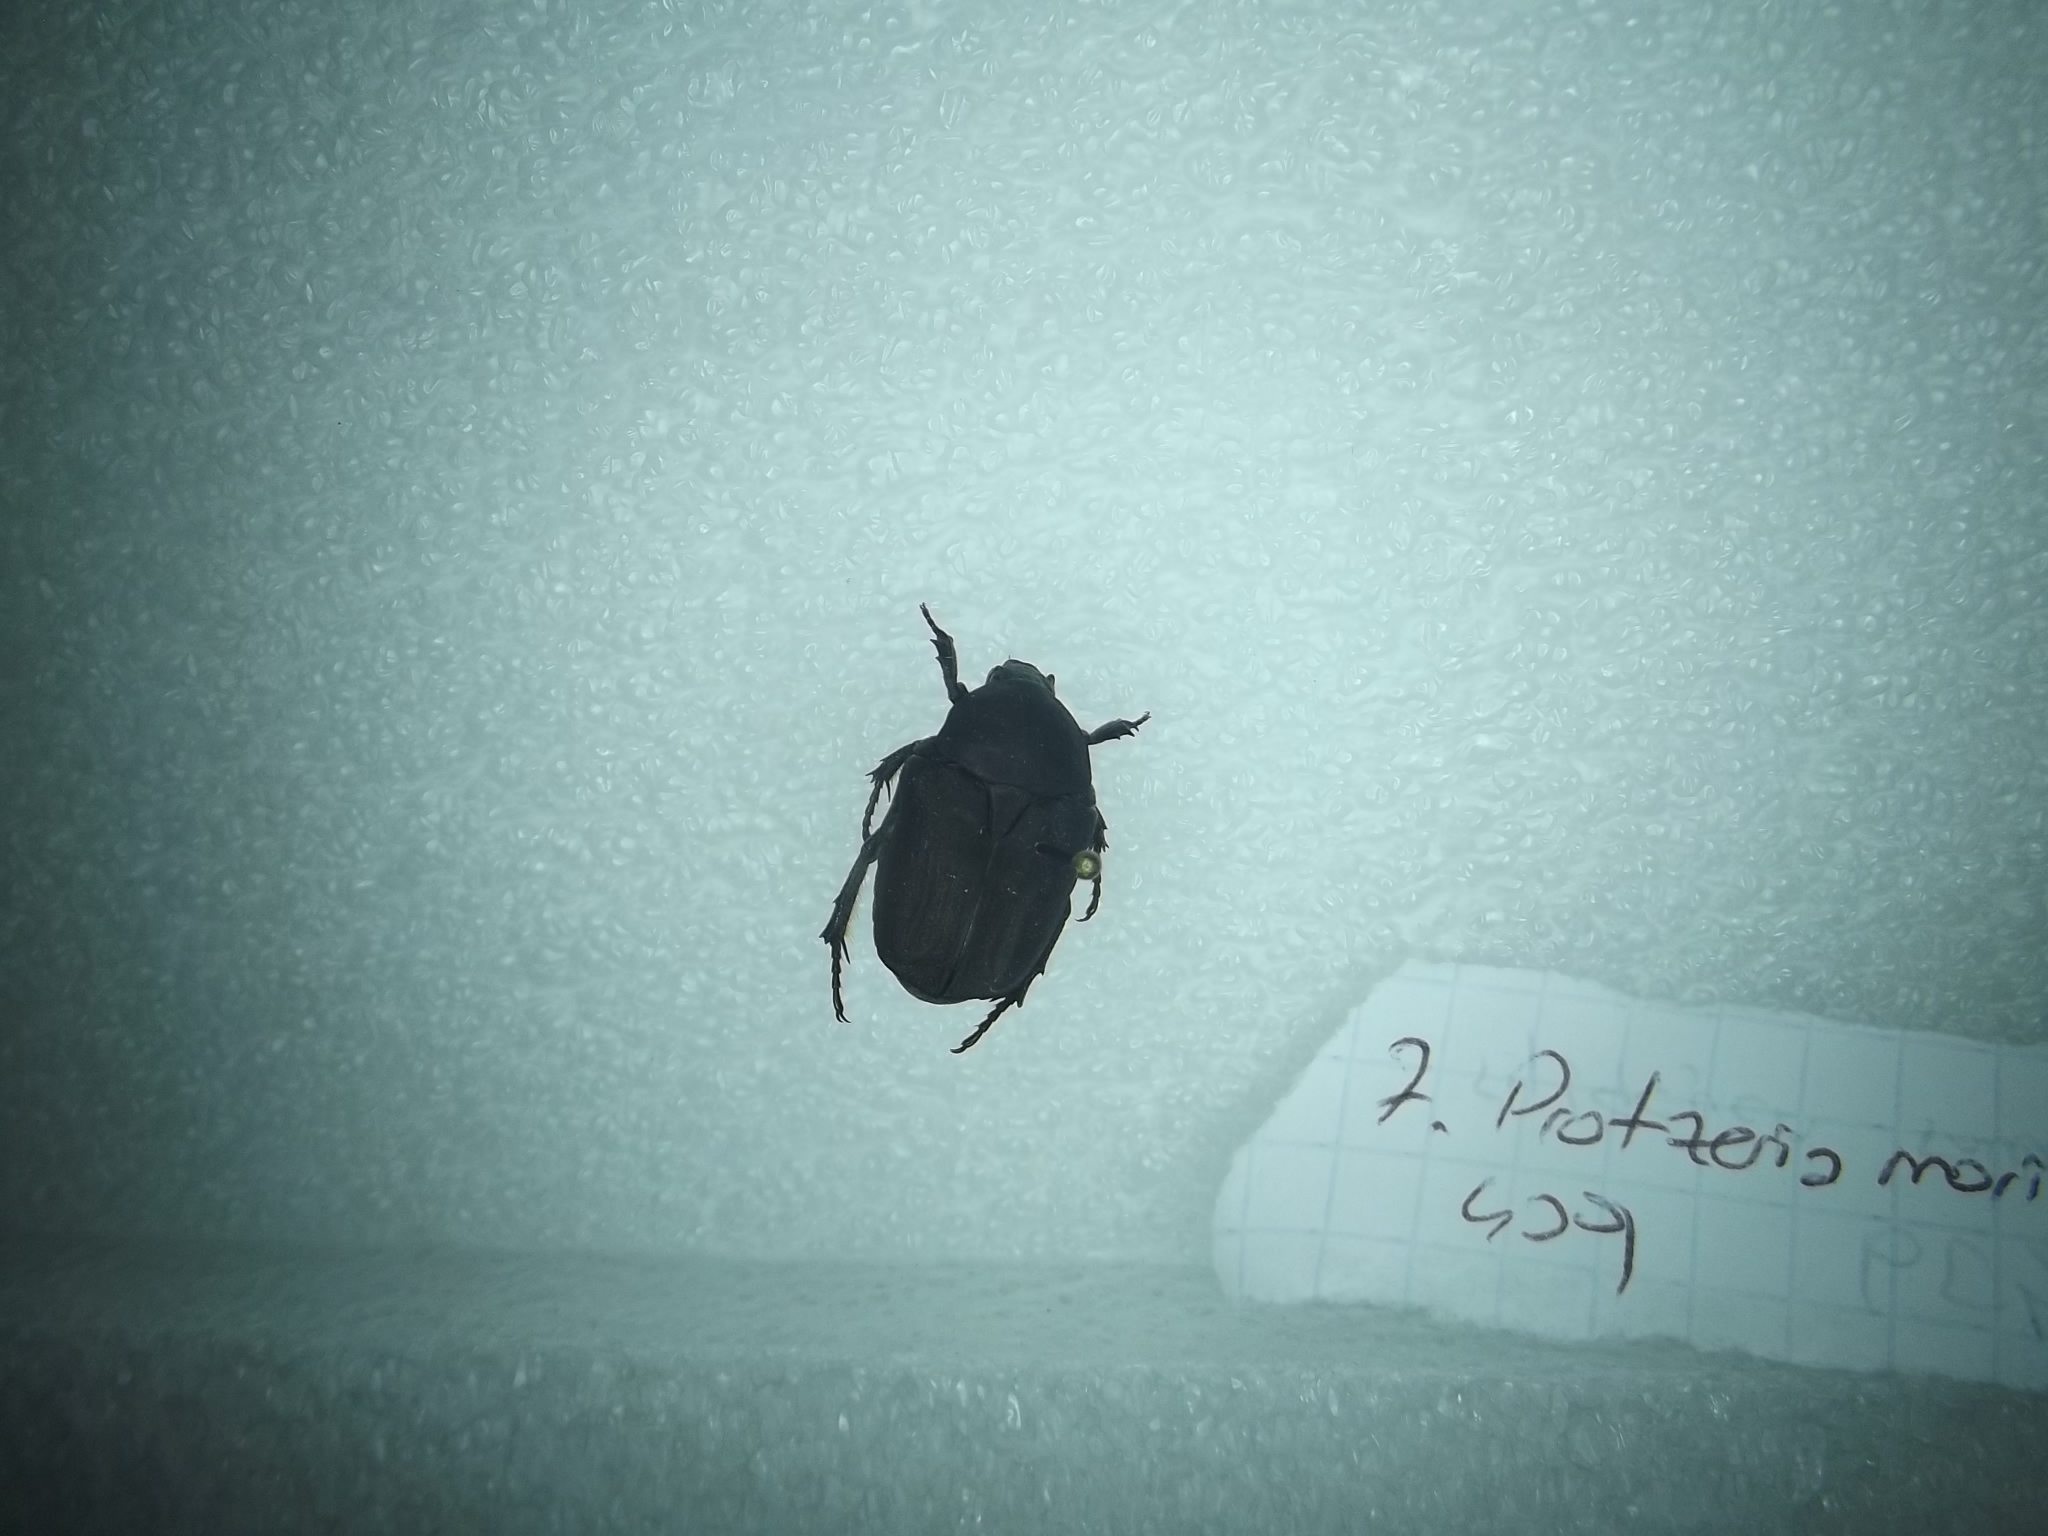Protaetia_morio_morio: (798, 591, 1155, 1078)
